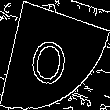O_N: (32, 24, 78, 86)
